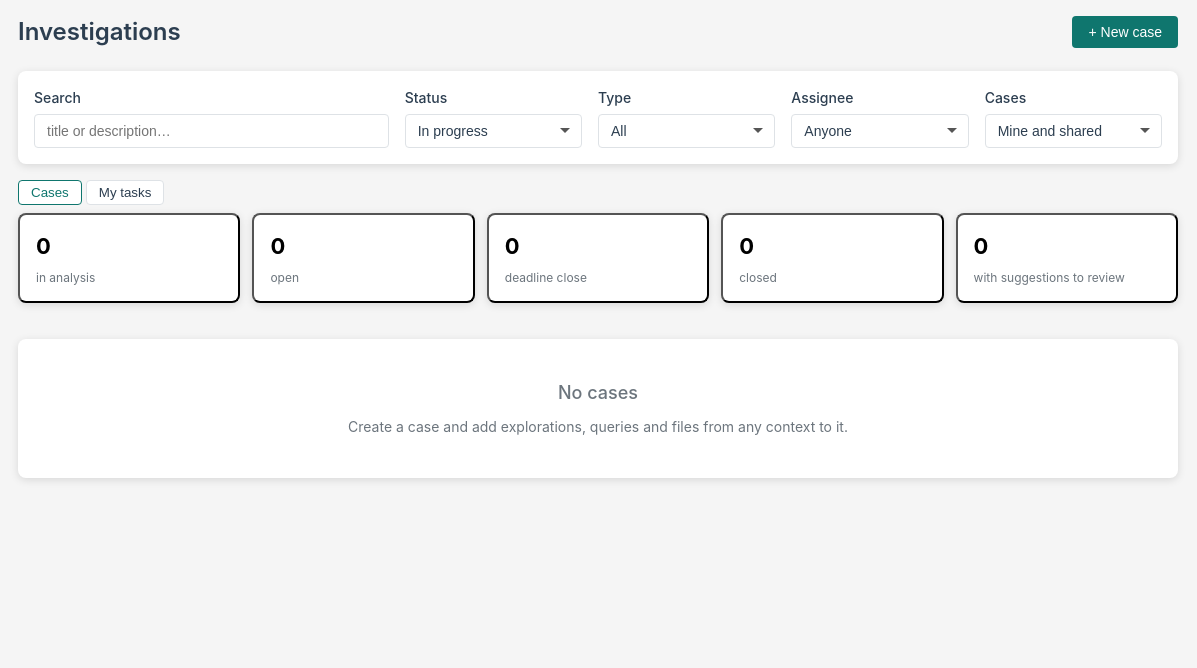
Test case: InvestigationsView › a filter with no match offers to clear the filters; a failed load offers Retry
The image size is (1197, 668).
Expected: the element with test id "investigations-empty" is shown, [18,339,1178,478]
Type "zzz" into the field with test id "investigations-search" at (211, 131), box [34,114,389,148]
Wait 300 ms
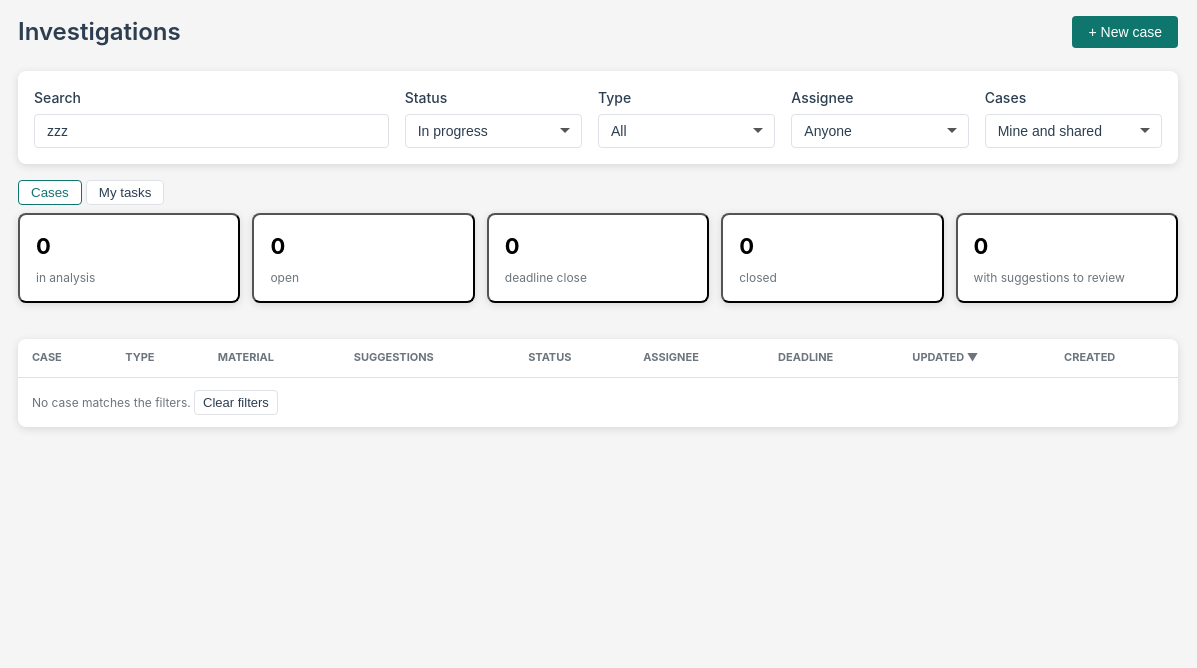
Expected: the element with test id "investigations-empty" is gone
Click the button with test id "investigations-clear" at (236, 402), box [194,390,278,415]
Wait 300 ms
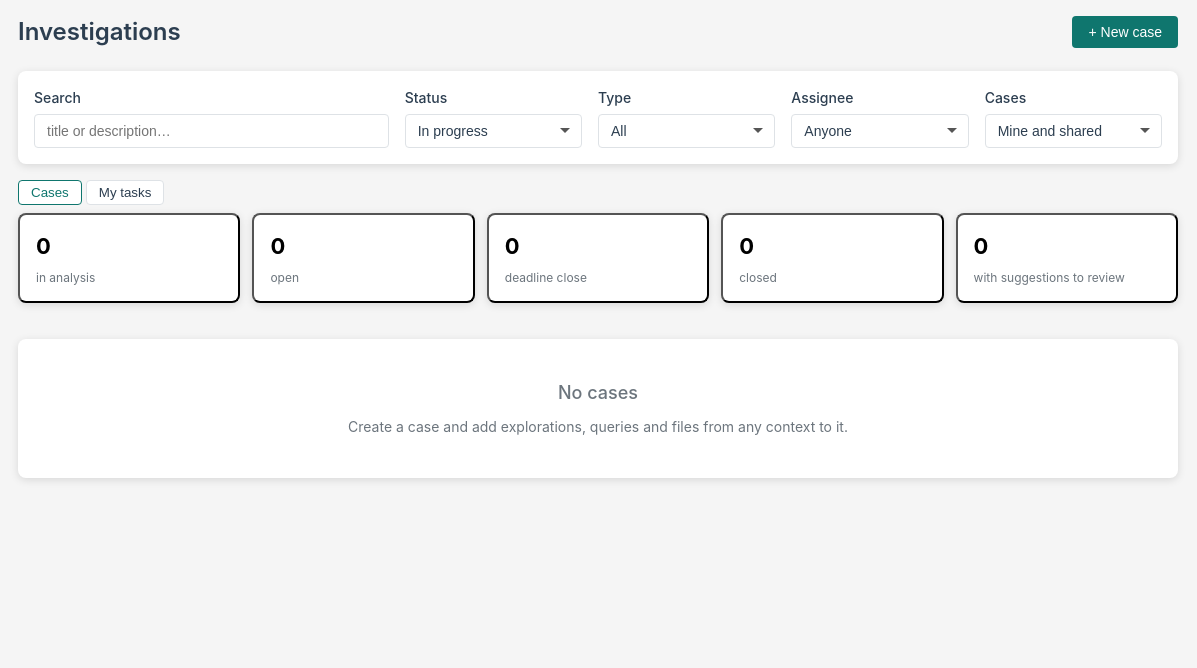
Type "x" into the field with test id "investigations-search" at (211, 131), box [34,114,389,148]
Wait 300 ms
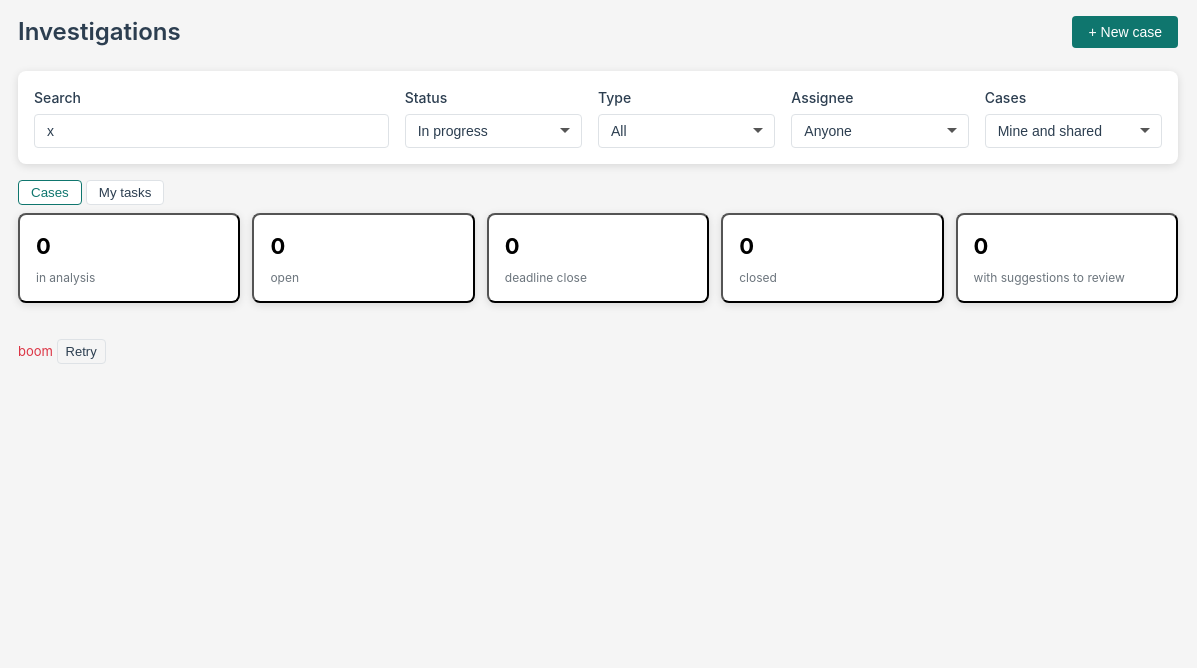
Expected: the element with test id "investigations-error" is shown, [18,339,106,364]
Click the button with test id "investigations-retry" at (81, 352), box [57,339,106,364]
Wait 10 ms
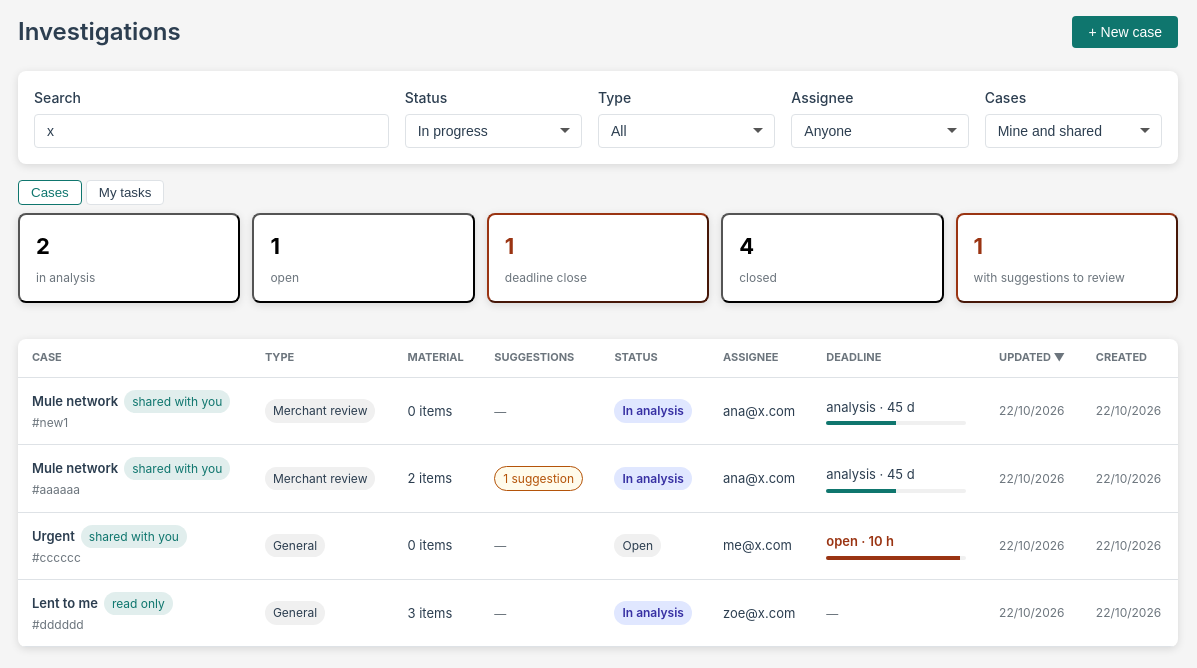
Expected: the element with test id "investigations-error" is gone
